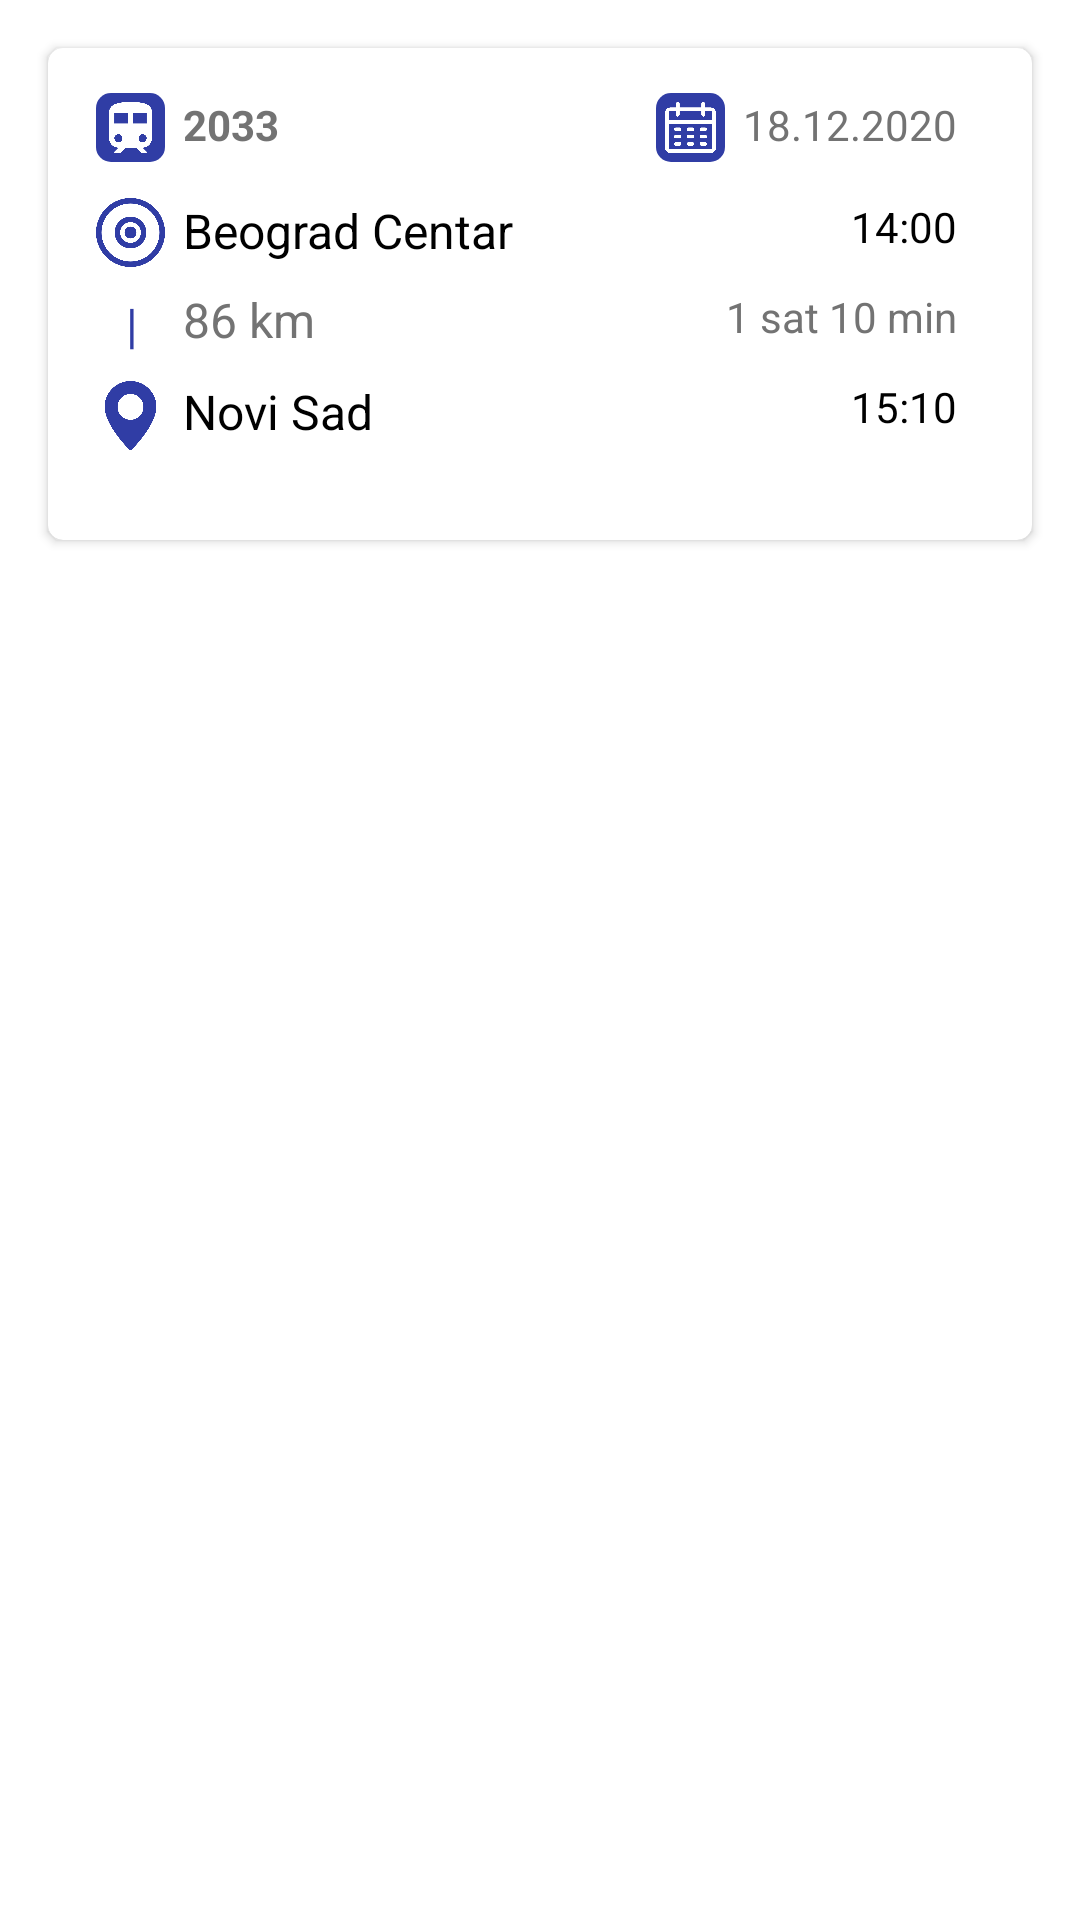

Screen size 1080px x 1920px. Icon name, then its box in pixels as (x1, y1, x2, y2):
calendar: (656, 93, 725, 162)
current: (96, 198, 165, 267)
location: (105, 381, 156, 450)
train: (96, 93, 165, 162)
